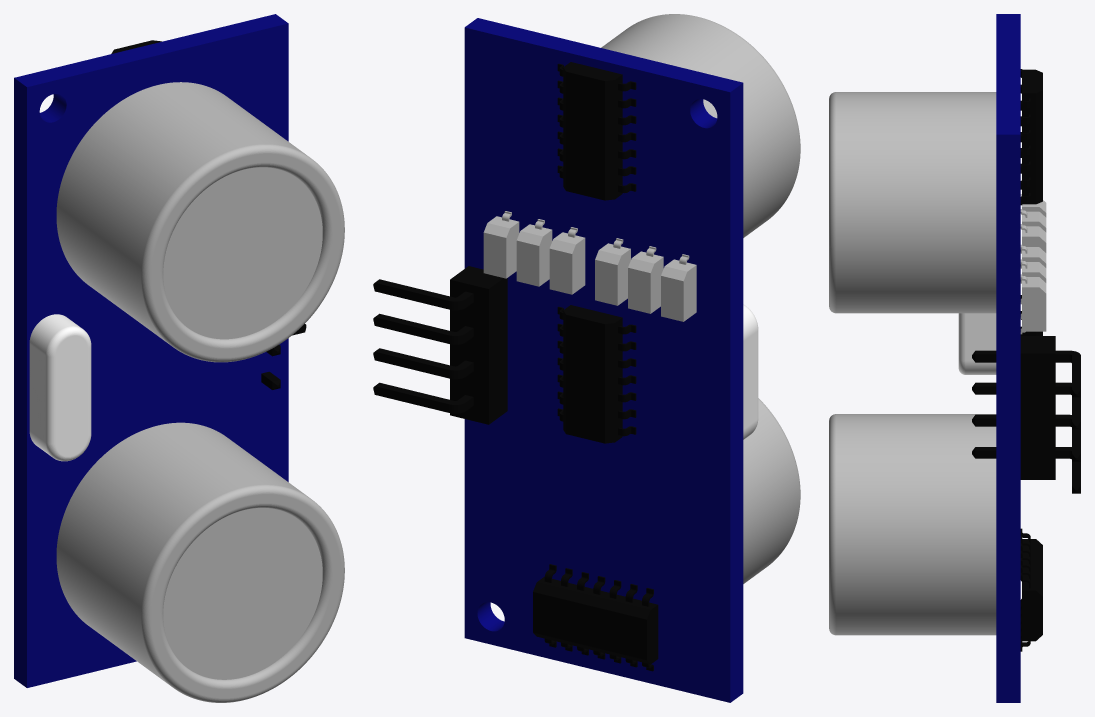
File: sonar02.dae
3 renders of one model, left to right at view 1: azimuth 30°, elevation 25°; view 2: azimuth 150°, elevation 25°; view 3: azimuth 270°, elevation 25°, orthographic. The views are drawn at different scales.
Parts seen in each view (by area): view 1: Transducer (×2), PCB, HC-SR04 Crystal; view 2: PCB, 14 Pin SMT (×3), Transducer (×2), 3 Pin Header 90 Degree, Cap1 SMT (×6), HC-SR04 Crystal; view 3: Transducer (×2), PCB, 3 Pin Header 90 Degree, 14 Pin SMT (×2), Cap1 SMT (×5), HC-SR04 Crystal.
Boxes of the visible parts, bbox=[...] form: Transducer (×2): bbox=[56, 82, 344, 702]; PCB: bbox=[14, 14, 288, 687]; HC-SR04 Crystal: bbox=[29, 314, 91, 461]; PCB: bbox=[464, 18, 743, 702]; 14 Pin SMT (×3): bbox=[533, 62, 658, 671]; Transducer (×2): bbox=[601, 14, 800, 583]; 3 Pin Header 90 Degree: bbox=[373, 266, 507, 424]; Cap1 SMT (×6): bbox=[483, 211, 696, 321]; HC-SR04 Crystal: bbox=[743, 304, 758, 439]; Transducer (×2): bbox=[829, 92, 996, 635]; PCB: bbox=[996, 14, 1020, 702]; 3 Pin Header 90 Degree: bbox=[972, 336, 1080, 493]; 14 Pin SMT (×2): bbox=[1020, 69, 1042, 651]; Cap1 SMT (×5): bbox=[1020, 209, 1046, 334]; HC-SR04 Crystal: bbox=[958, 313, 996, 374].
Size of the model in its own units: 0.6396 by 0.4589 by 1.14.
